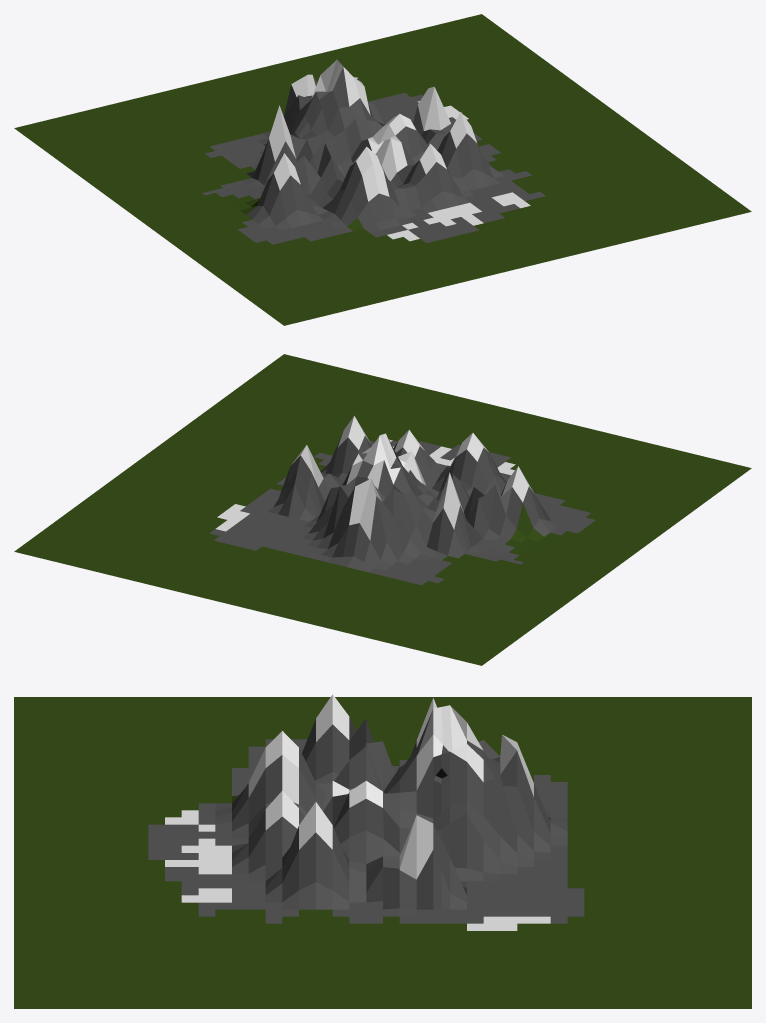
Rendered from mountain.fbx.
3 renders of one model, top to bottom at view 1: azimuth 30°, elevation 25°; view 2: azimuth 150°, elevation 25°; view 3: azimuth 270°, elevation 25°, orthographic. The views are drawn at different scales.
Visible parts, largest first — view 1: Plane; view 2: Plane; view 3: Plane.
Boxes of the visible parts, <box> form: Plane: <box>14,14,751,325</box>; Plane: <box>14,354,751,665</box>; Plane: <box>14,694,751,1008</box>.
Size of the model in its own units: 5002 by 999 by 5002.
